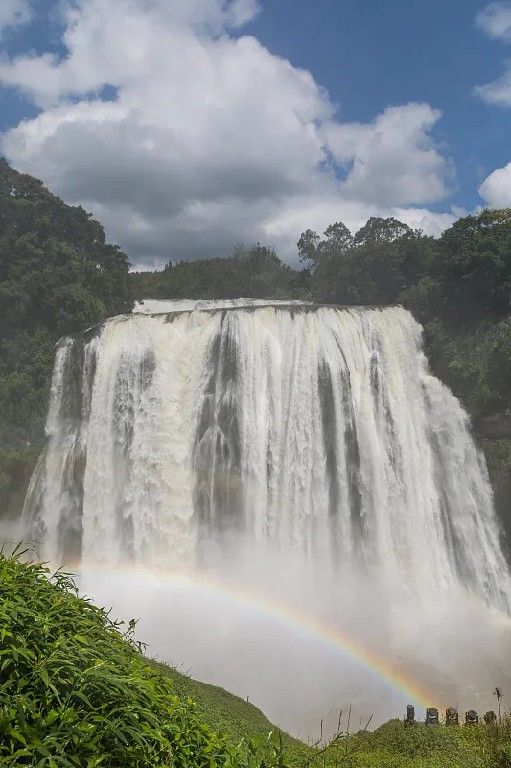Huangguoshu: (26, 300, 511, 614)
